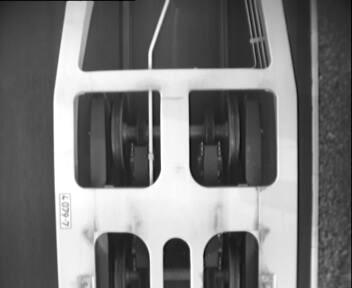Copy of Copy of Copy of Copy of wagon_scan: (83, 224, 265, 288)
